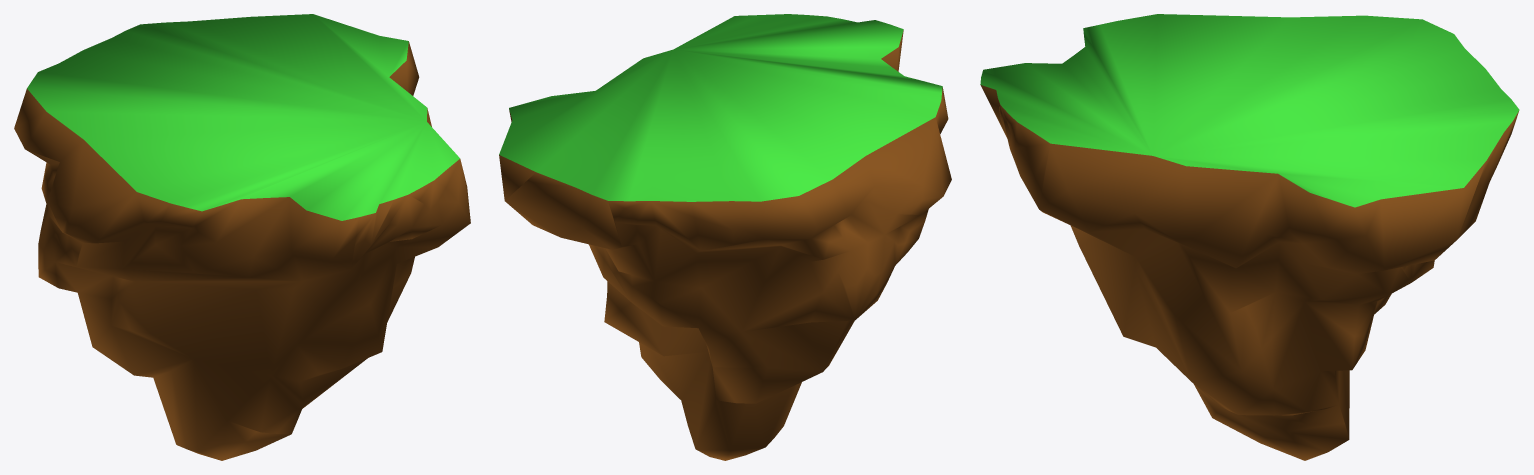
Rendered from TexRock.fbx.
3 views of the same model, side by side, from view 1: azimuth 30°, elevation 25°; view 2: azimuth 150°, elevation 25°; view 3: azimuth 270°, elevation 25° (orthographic). The views are drawn at different scales.
Parts seen in each view (by area): view 1: Rock1; view 2: Rock1; view 3: Rock1.
Part boxes in pixels (bbox=[...]): Rock1: bbox=[14, 14, 470, 460]; Rock1: bbox=[499, 14, 951, 460]; Rock1: bbox=[980, 14, 1519, 460].
Size of the model in its own units: 1296 by 1112 by 1450.
